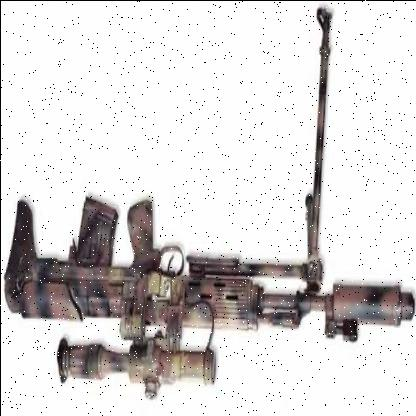rifle: (7, 171, 416, 416)
